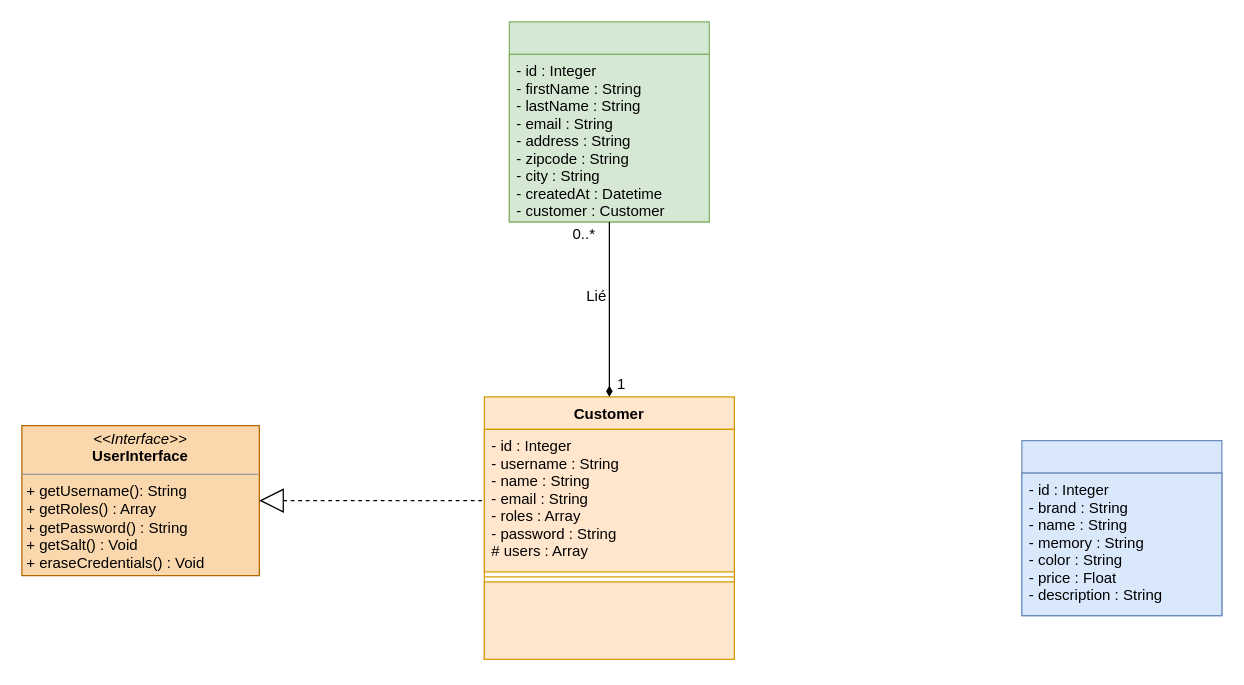
The diagram is 1244 pixels wide and 685 high, and some of its shapes have lost their labels. The shapes that lost their labels are listed below. From the top down, each one's box as (x1, y1, x2, y2) in pixels, then its label:
(508, 21, 709, 222): User
(1021, 439, 1222, 616): Product
(483, 581, 734, 659): + __construct() : Array + addUser(User) : Customer + removeUser(User) : Customer
